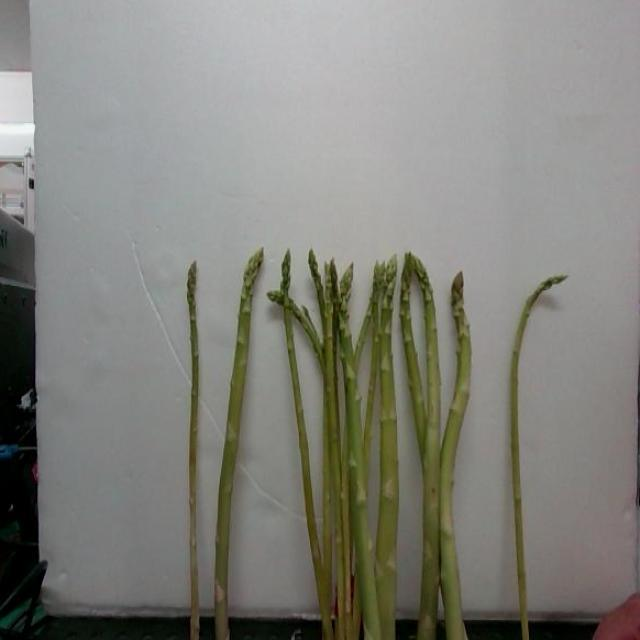aspargus: (213, 249, 263, 640)
